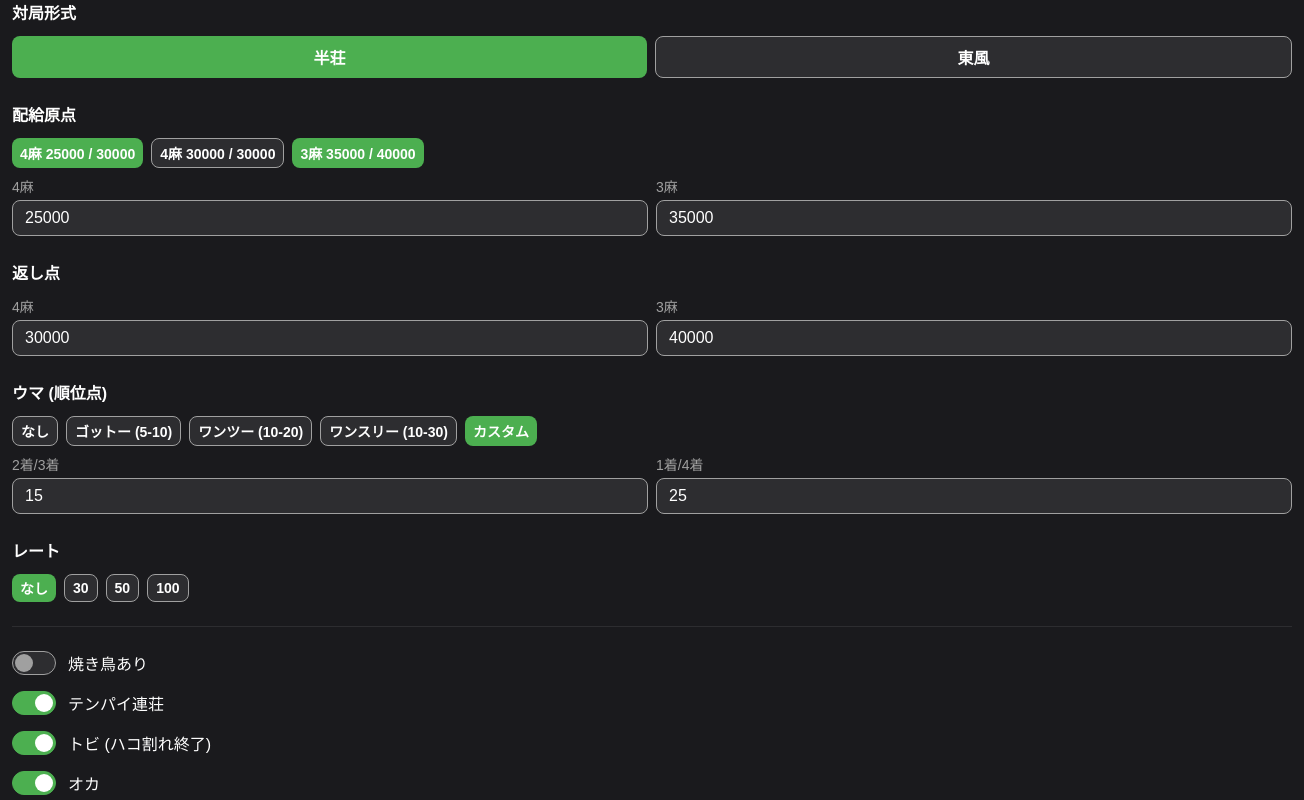
Scenario: CompetitionRuleSettings › toggles yakitori and updates yakitori point
This screenshot has width=1304, height=800.
Click the checkbox labelled "焼き鳥あり" at (80, 663), box [12, 651, 148, 675]
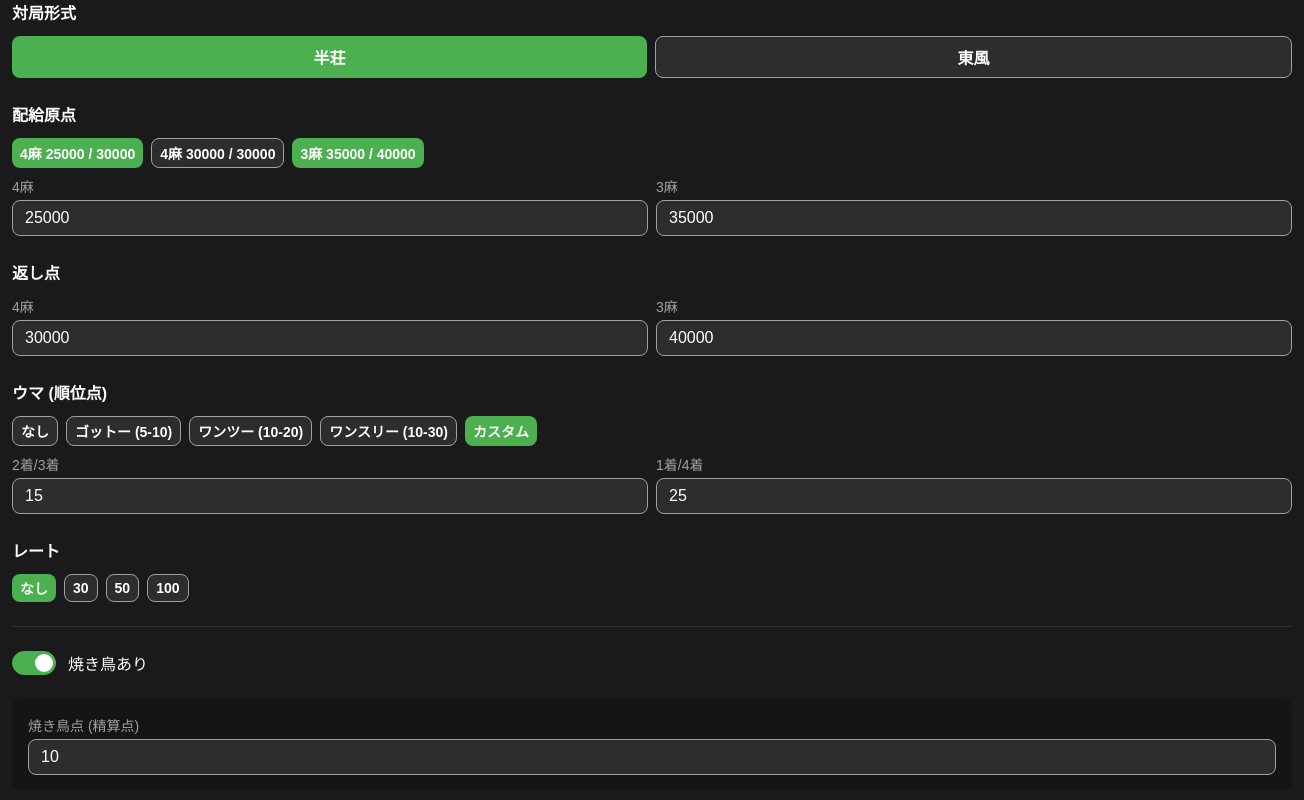
Replace the text in the number field named "焼き鳥点 (精算点)" with "25" at (652, 757), box [28, 739, 1276, 775]
(page scrolled)
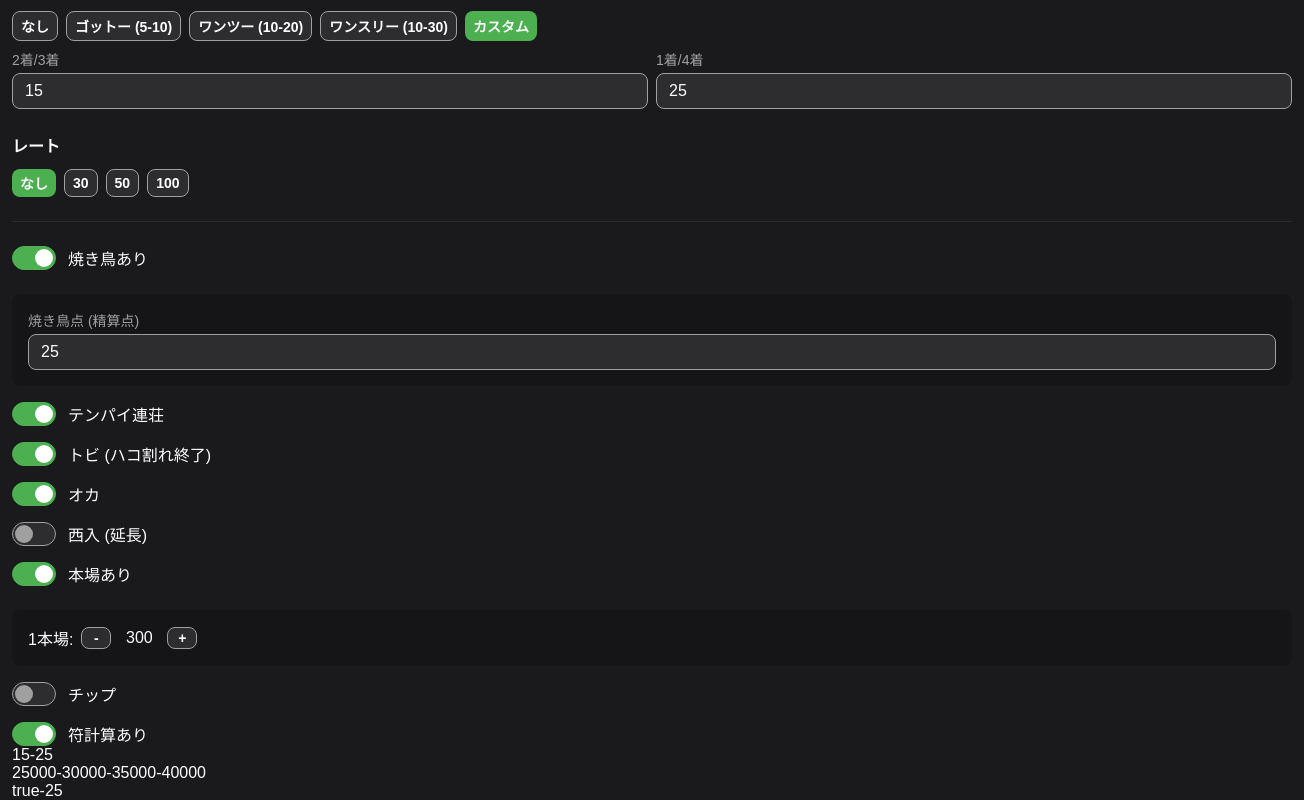
expect the text with test id "yakitori-value" reads "true-25": met, box [12, 782, 63, 799]
